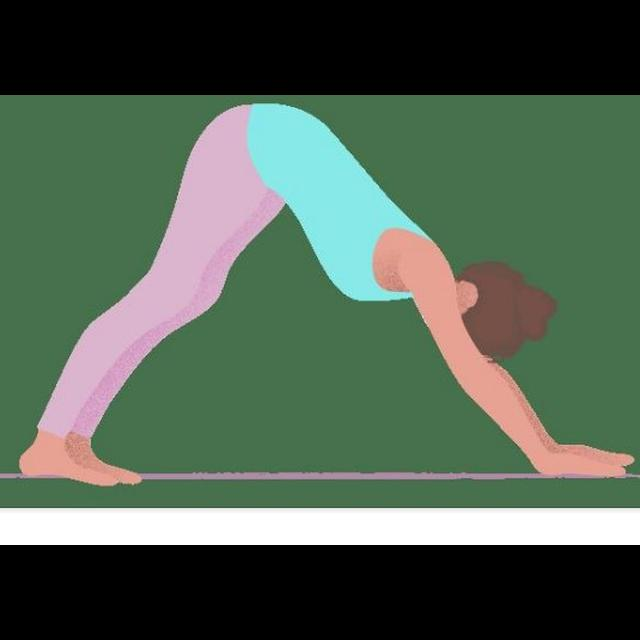Downward-Facing_Dog: (19, 96, 634, 493)
